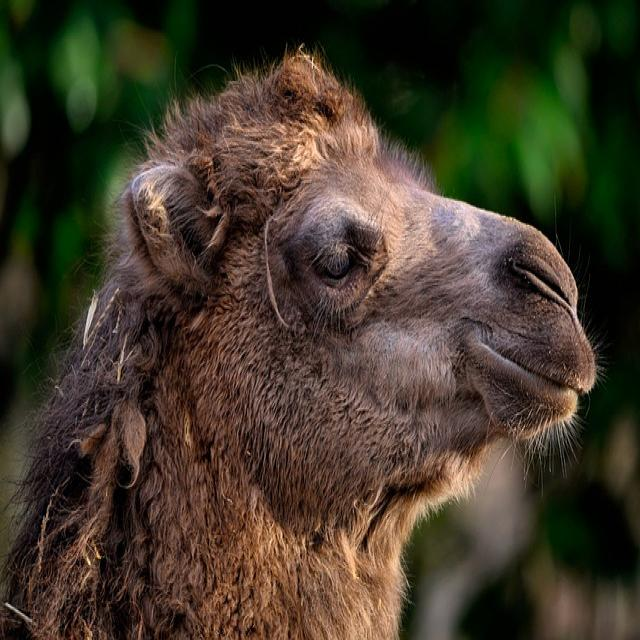Herbivorous: (0, 49, 598, 640)
